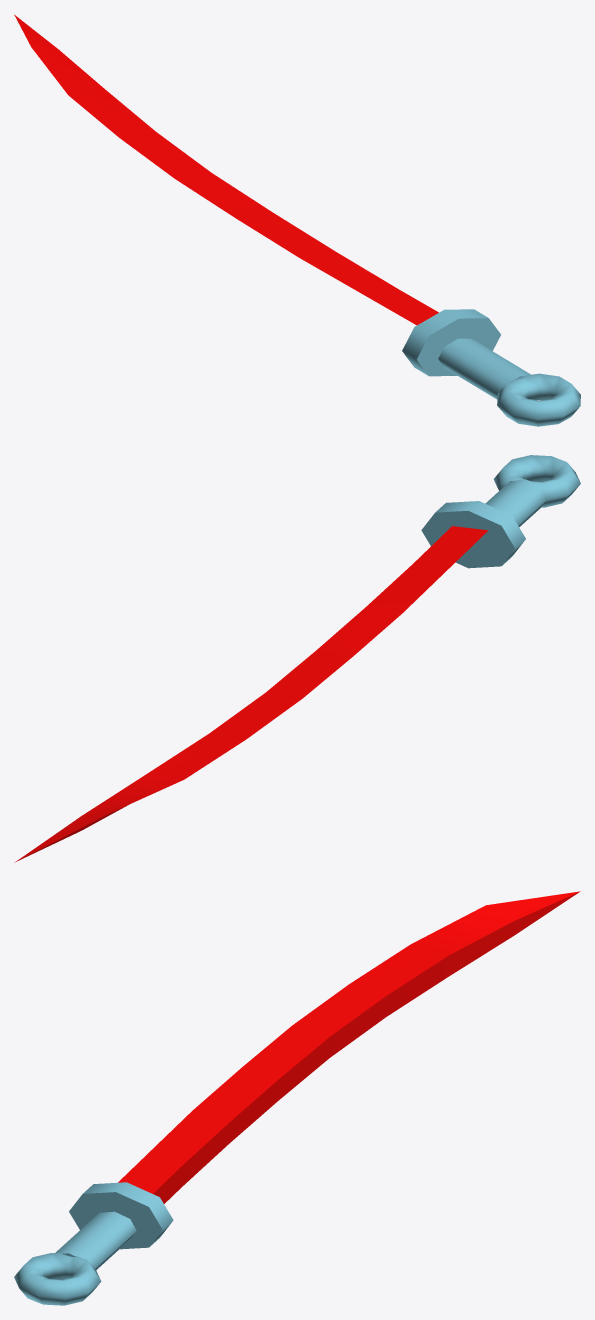
File: SM_Hwando(pivot_is_strange).fbx
The picture shows the model from 3 angles, top to bottom: view 1: azimuth 30°, elevation 25°; view 2: azimuth 150°, elevation 25°; view 3: azimuth 330°, elevation 25°; orthographic projection.
Visible parts, largest first — view 1: Cylinder002; view 2: Cylinder002; view 3: Cylinder002.
Boxes of the visible parts, <box> form: Cylinder002: <box>14,14,580,426</box>; Cylinder002: <box>14,455,580,862</box>; Cylinder002: <box>14,891,580,1305</box>.
Size of the model in its own units: 13.17 by 7.06 by 122.
